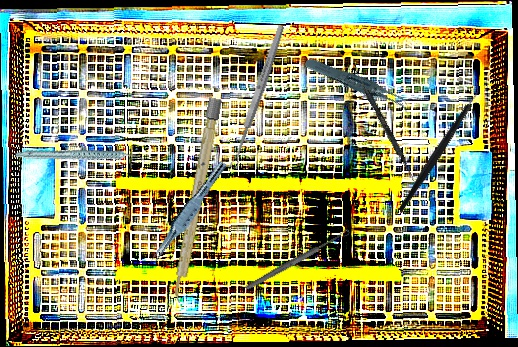Chopper: (364, 79, 513, 214)
Handpiece: (13, 125, 147, 189)
Scalpel Handle: (169, 97, 223, 304)
Spatula Surgical: (348, 63, 419, 182)
Surgical Spoon: (227, 24, 287, 170), (244, 228, 351, 292)
Tissue Forceps: (303, 38, 413, 134), (146, 156, 229, 269)
